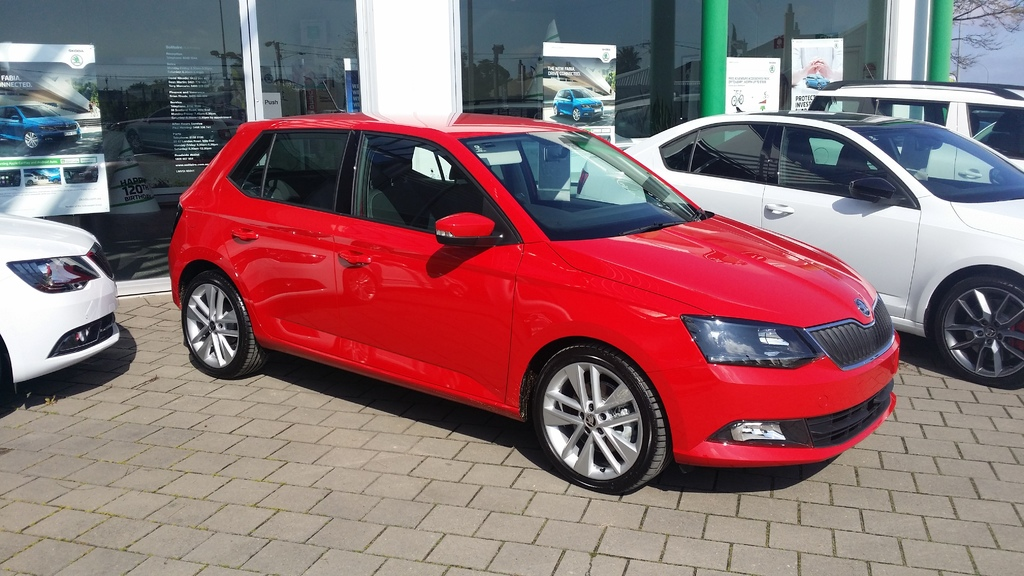Car: (169, 107, 900, 495), (573, 107, 1024, 381), (0, 212, 118, 405)
